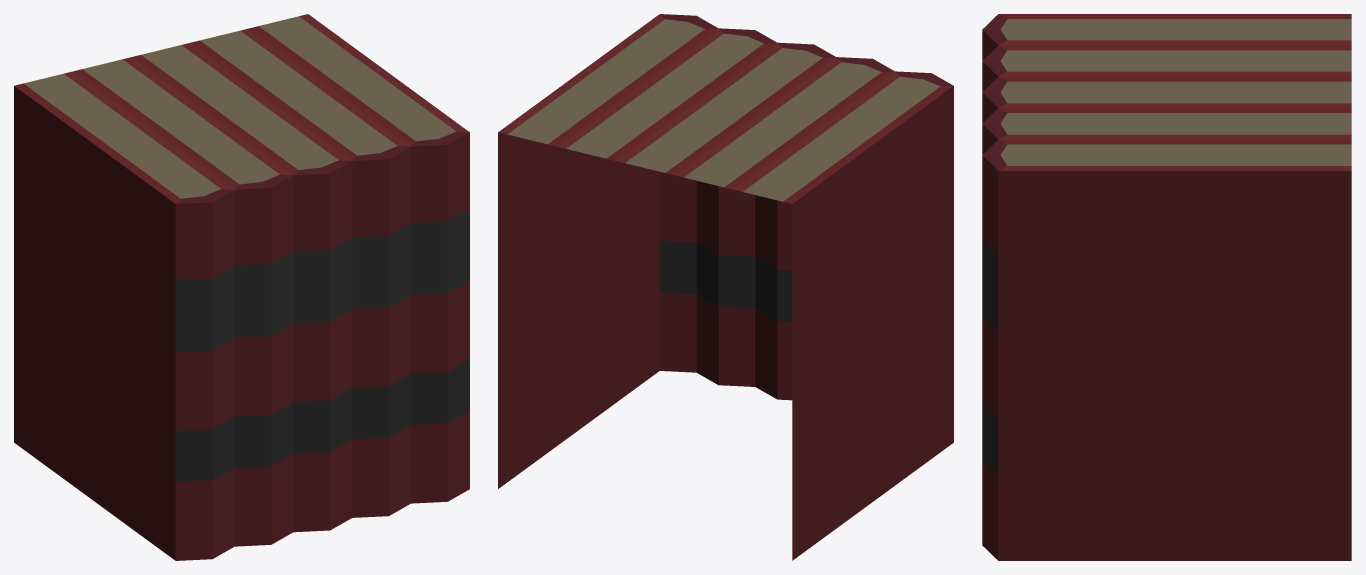
Rendered from Prop_BookBunchD.fbx.
3 views of the same model, side by side, from view 1: azimuth 30°, elevation 25°; view 2: azimuth 150°, elevation 25°; view 3: azimuth 270°, elevation 25° (orthographic). The views are drawn at different scales.
Parts seen in each view (by area): view 1: Prop_BookBunchD; view 2: Prop_BookBunchD; view 3: Prop_BookBunchD.
Part boxes in pixels (bbox=[...]): Prop_BookBunchD: bbox=[14, 14, 469, 560]; Prop_BookBunchD: bbox=[498, 14, 953, 560]; Prop_BookBunchD: bbox=[982, 14, 1351, 560].
Size of the model in its own units: 22.35 by 25.92 by 22.25.
